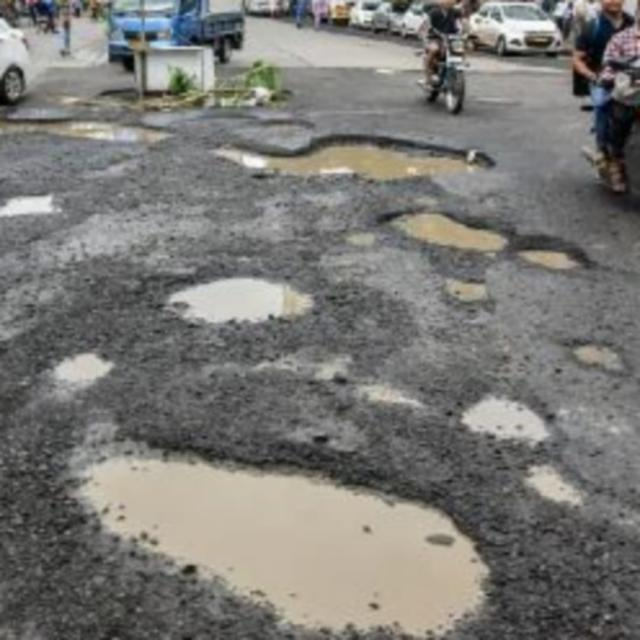pothole: (47, 448, 490, 640), (206, 125, 500, 185), (146, 270, 323, 326), (3, 106, 175, 158), (371, 200, 508, 252), (455, 381, 553, 448), (558, 320, 640, 381), (522, 457, 583, 516), (517, 235, 597, 279), (38, 343, 114, 386), (0, 181, 62, 229), (361, 376, 420, 412), (435, 275, 490, 306)
